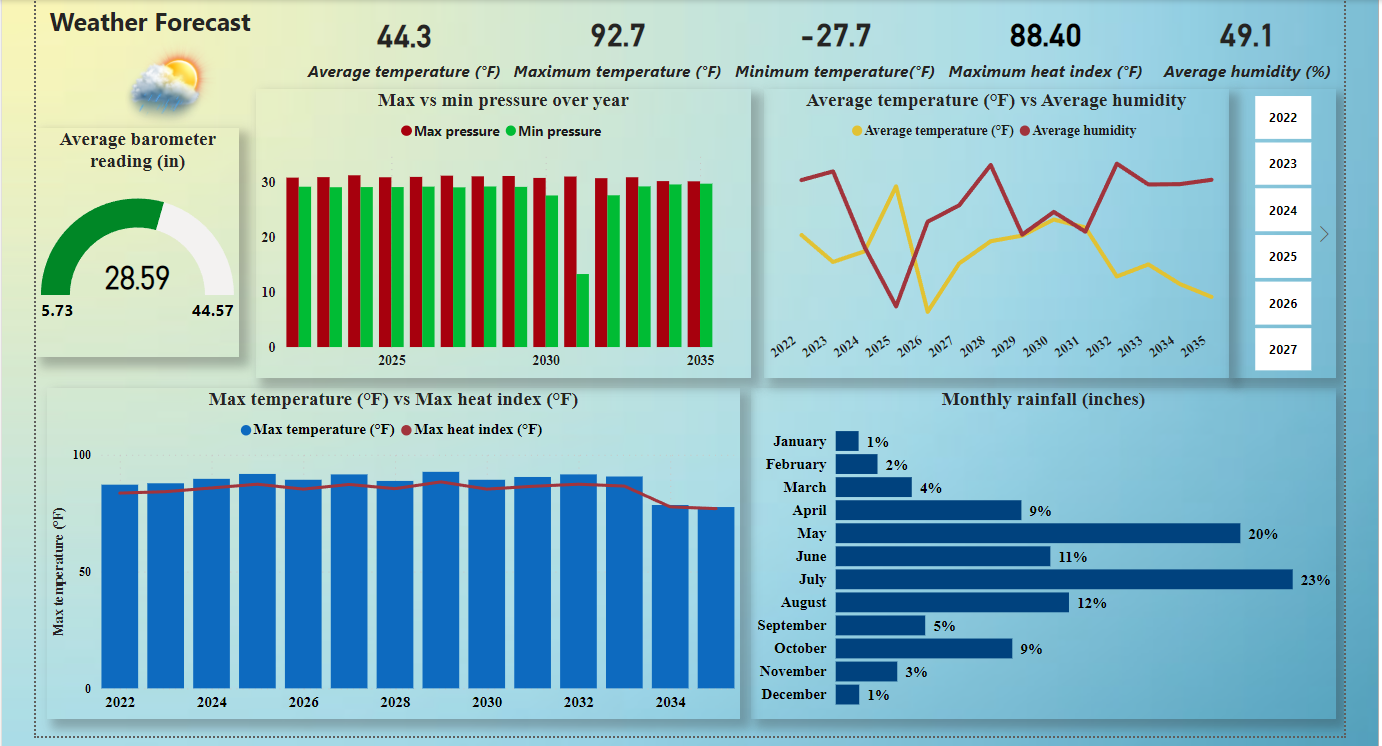

The dashboard page shown, as its layout file describes it:
{"tool":"powerbi","page":{"name":"Weather_data","canvas":[1280,720],"ordinal":0},"visuals":[{"type":"card","fields":{"Values":["Max(weather_data.temperature_max (°F))"]},"box":[460.8,0,216.4,103.9],"z":0},{"type":"card","fields":{"Values":["Avg(weather_data.temperature (°F))"]},"box":[259.2,0,201.7,103.9],"z":1000},{"type":"card","fields":{"Values":["Avg(weather_data.avg_humidity (%))"]},"box":[1089.2,0,190.7,103.9],"z":2000},{"type":"card","fields":{"Values":["Min(weather_data.temperature_min (°F))"]},"box":[677.2,0,209,103.9],"z":3000},{"type":"card","fields":{"Values":["Max(weather_data.heat_index_max (°F))"]},"box":[886.2,0,202.9,103.9],"z":4000},{"type":"image","box":[0,35.4,259.2,101.5],"z":5000},{"type":"textbox","box":[0,0,235.9,103.9],"z":6000},{"type":"lineClusteredColumnComboChart","title":"Max temperature (°F) vs Max heat index (°F) ","fields":{"Category":["weather_data.date.Variation.Date Hierarchy.Year"],"Y":["Max(weather_data.temperature_max (°F))"],"Y2":["Max(weather_data.heat_index_max (°F))"]},"box":[11,378.9,677.2,323.9],"z":7000},{"type":"clusteredBarChart","title":" Monthly rainfall (inches)","fields":{"Category":["weather_data.date.Variation.Date Hierarchy.Month"],"Y":["Divide(Sum(weather_data.monthly_rainfall (in)), ScopedEval(Sum(weather_data.monthly_rainfall (in)), []))"]},"box":[699.2,378.9,572.1,323.9],"z":8000},{"type":"gauge","title":"Average barometer reading (in)","fields":{"Y":["Avg(weather_data.avg_barometer (in))"],"MaxValue":["Max(weather_data.avg_barometer (in))1"],"MinValue":["Min(weather_data.avg_barometer (in))2"]},"box":[4.9,117.4,199.3,251.8],"z":9000},{"type":"lineChart","title":"Average temperature (°F) vs Average humidity ","fields":{"Category":["weather_data.date.Variation.Date Hierarchy.Year"],"Y":["Avg(weather_data.temperature (°F))"],"Y2":["Avg(weather_data.avg_humidity (%))"]},"box":[699.2,117.4,415.6,251.8],"z":10000},{"type":"clusteredColumnChart","title":"Max and min pressure over year","fields":{"Y":["Max(weather_data.pressure_max)","Min(weather_data.pressure_min)"],"Category":["weather_data.date.Variation.Date Hierarchy.Year"]},"box":[215.1,117.4,473.1,251.8],"z":11000},{"type":"slicer","fields":{"Values":["weather_data.date.Variation.Date Hierarchy.Year"]},"box":[1127.1,117.4,144.2,251.8],"z":12000}]}

Visuals, with their boxes on the page's 1280x720 design canvas (x1, y1, x2, y2). These are canvas units, not pixel positions in the 1382x746 screenshot, which may show the page scaled, cropped or inside an application window:
card - Max(weather_data.temperature_max (°F)): 461,0,677,104
card - Avg(weather_data.temperature (°F)): 259,0,461,104
card - Avg(weather_data.avg_humidity (%)): 1089,0,1280,104
card - Min(weather_data.temperature_min (°F)): 677,0,886,104
card - Max(weather_data.heat_index_max (°F)): 886,0,1089,104
image: 0,35,259,137
textbox: 0,0,236,104
"Max temperature (°F) vs Max heat index (°F) " lineClusteredColumnComboChart: 11,379,688,703
" Monthly rainfall (inches)" clusteredBarChart: 699,379,1271,703
"Average barometer reading (in)" gauge: 5,117,204,369
"Average temperature (°F) vs Average humidity " lineChart: 699,117,1115,369
"Max and min pressure over year" clusteredColumnChart: 215,117,688,369
slicer - weather_data.date.Variation.Date Hierarchy.Year: 1127,117,1271,369
